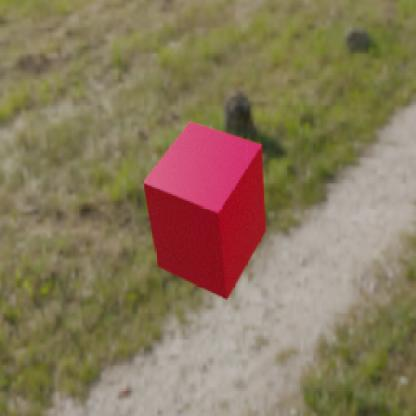cube: (141, 120, 266, 300)
